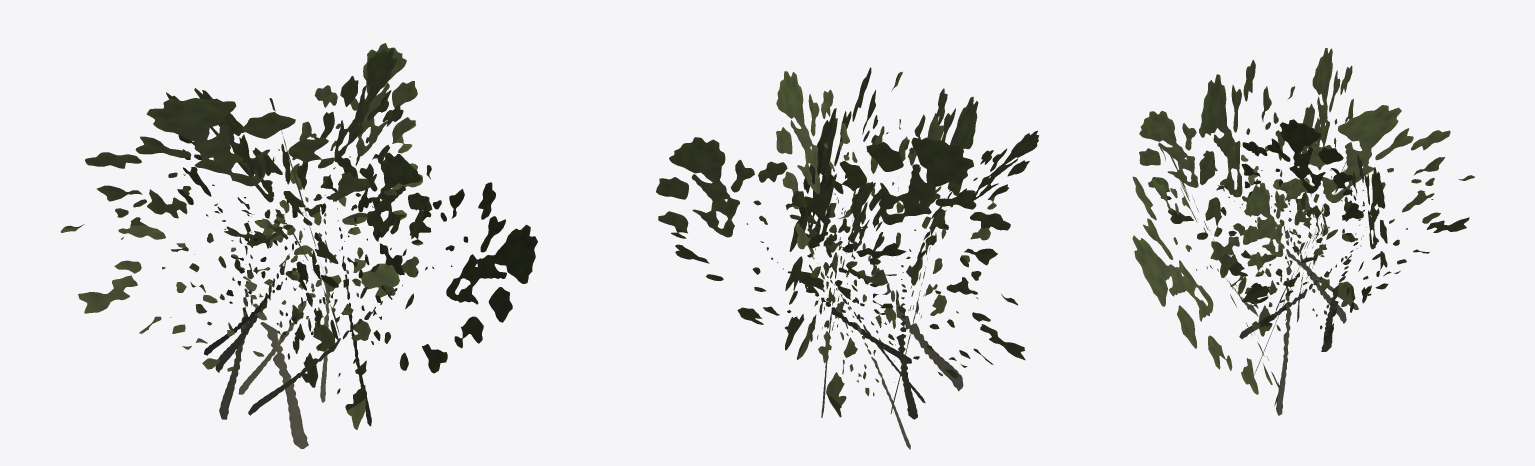
Rendered from forest_bush012.glb.
3 renders of one model, left to right at view 1: azimuth 30°, elevation 25°; view 2: azimuth 150°, elevation 25°; view 3: azimuth 270°, elevation 25°, orthographic. The views are drawn at different scales.
Bounding box in the file's own units: 1.95 × 1.6 × 1.73.
1 material, 1 textured.
